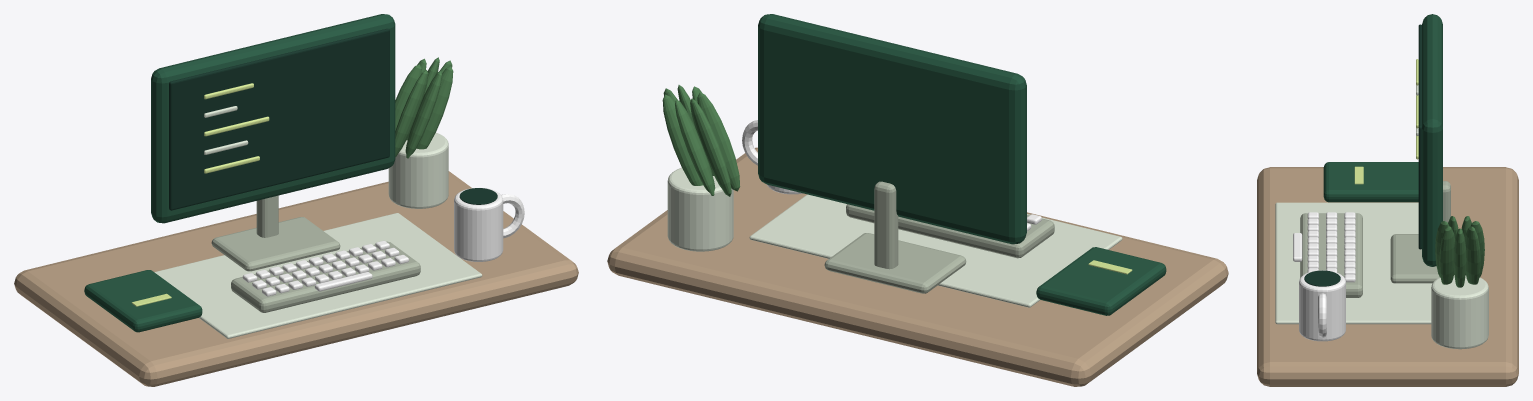
Rendered from portfolio-studio.glb.
The picture shows the model from 3 angles, left to right: view 1: azimuth 30°, elevation 25°; view 2: azimuth 150°, elevation 25°; view 3: azimuth 270°, elevation 25°; orthographic projection. The views are drawn at different scales.
Visible parts, largest first — view 1: Desktop, Monitor screen, Desk mat, Monitor frame, Notebook, Monitor foot, Keyboard, Planter, Cup, Leaf 5, Leaf 4, Leaf 6 (+5 smaller); view 2: Monitor frame, Desktop, Desk mat, Notebook, Monitor foot, Planter, Keyboard, Monitor stand, Leaf 3, Leaf 2, Leaf 4, Leaf 1; view 3: Desktop, Desk mat, Monitor frame, Notebook, Planter, Cup, Keyboard, Monitor foot, Monitor screen, Leaf 6, Leaf 1, Leaf 0 (+6 smaller).
Boxes of the visible parts, <box> form: Desktop: <box>14,171,578,386</box>; Monitor screen: <box>169,28,389,210</box>; Desk mat: <box>154,213,482,338</box>; Monitor frame: <box>151,14,395,223</box>; Notebook: <box>84,270,202,332</box>; Monitor foot: <box>211,217,340,271</box>; Keyboard: <box>231,241,420,312</box>; Planter: <box>388,132,448,208</box>; Cup: <box>454,188,503,261</box>; Leaf 5: <box>405,71,442,158</box>; Leaf 4: <box>395,70,428,156</box>; Leaf 6: <box>416,66,453,149</box>; Monitor frame: <box>758,14,1026,244</box>; Desktop: <box>607,147,1228,386</box>; Desk mat: <box>749,194,1122,307</box>; Notebook: <box>1036,247,1166,315</box>; Monitor foot: <box>824,233,966,293</box>; Planter: <box>667,167,733,251</box>; Keyboard: <box>846,204,1054,258</box>; Monitor stand: <box>874,181,898,269</box>; Leaf 3: <box>690,98,731,196</box>; Leaf 2: <box>675,99,715,195</box>; Leaf 4: <box>697,92,740,191</box>; Leaf 1: <box>662,94,702,185</box>; Desktop: <box>1257,167,1518,386</box>; Desk mat: <box>1275,202,1432,324</box>; Monitor frame: <box>1422,14,1442,266</box>; Notebook: <box>1323,162,1418,202</box>; Planter: <box>1431,275,1488,349</box>; Cup: <box>1299,270,1345,341</box>; Keyboard: <box>1300,213,1362,297</box>; Monitor foot: <box>1390,234,1439,283</box>; Monitor screen: <box>1418,24,1421,249</box>; Leaf 6: <box>1439,226,1454,284</box>; Leaf 1: <box>1465,226,1480,284</box>; Leaf 0: <box>1453,228,1466,287</box>.
Bounding box in the file's own units: 3.7 × 1.87 × 2.
